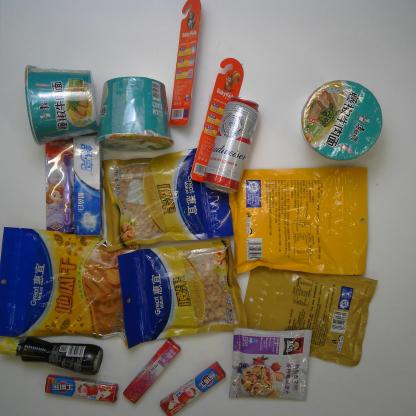Alcohol: (203, 94, 259, 194)
Candy: (122, 336, 182, 405), (159, 362, 226, 416), (43, 374, 121, 405)
Dried Fruit: (1, 224, 139, 343), (230, 166, 374, 277), (115, 239, 250, 349), (242, 261, 379, 367), (99, 148, 236, 252)
Instant Drink: (229, 327, 316, 402)
Instant Noodles: (303, 78, 382, 163), (24, 62, 99, 146), (97, 77, 174, 151)
Personal Hygiene: (190, 56, 244, 184), (170, 1, 203, 125), (73, 130, 106, 236), (46, 137, 76, 233)
Seasoner: (0, 331, 107, 375)
